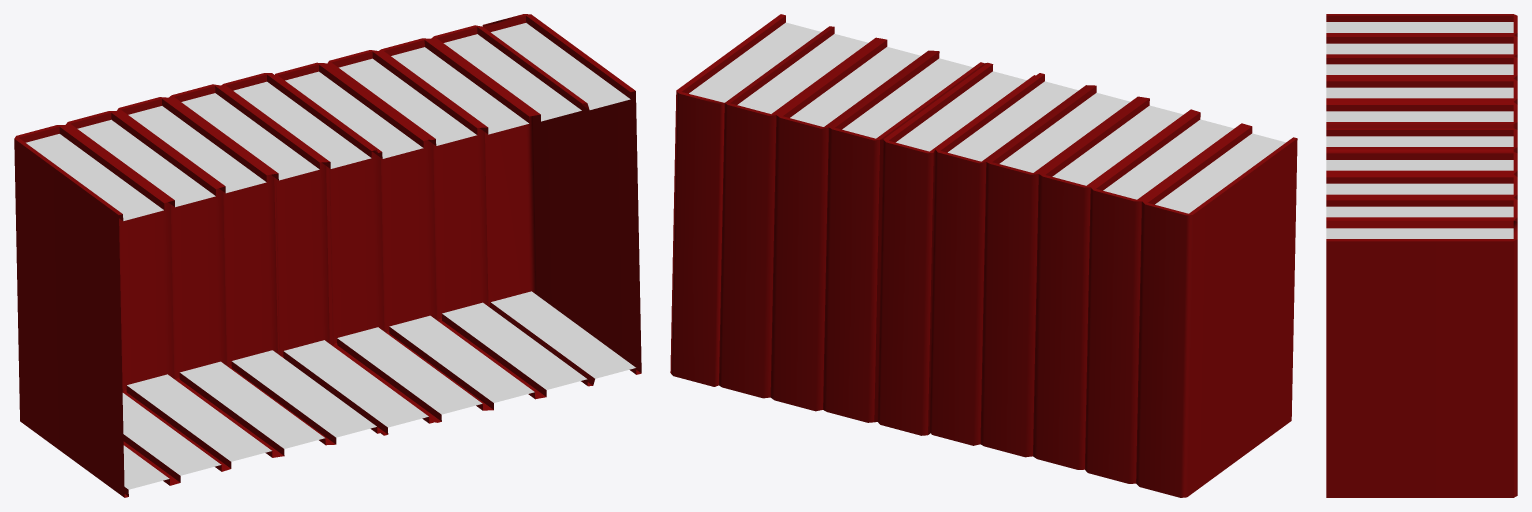
Rendered from BookLine.fbx.
3 renders of one model, left to right at view 1: azimuth 30°, elevation 25°; view 2: azimuth 150°, elevation 25°; view 3: azimuth 270°, elevation 25°, orthographic. The views are drawn at different scales.
Parts seen in each view (by area): view 1: polySurface22; view 2: polySurface22; view 3: polySurface22.
Boxes of the visible parts, x1,y1,x2,y2 form: polySurface22: [14, 14, 641, 497]; polySurface22: [670, 14, 1297, 497]; polySurface22: [1326, 14, 1517, 497].
Size of the model in its own units: 156 by 82.88 by 55.27.
